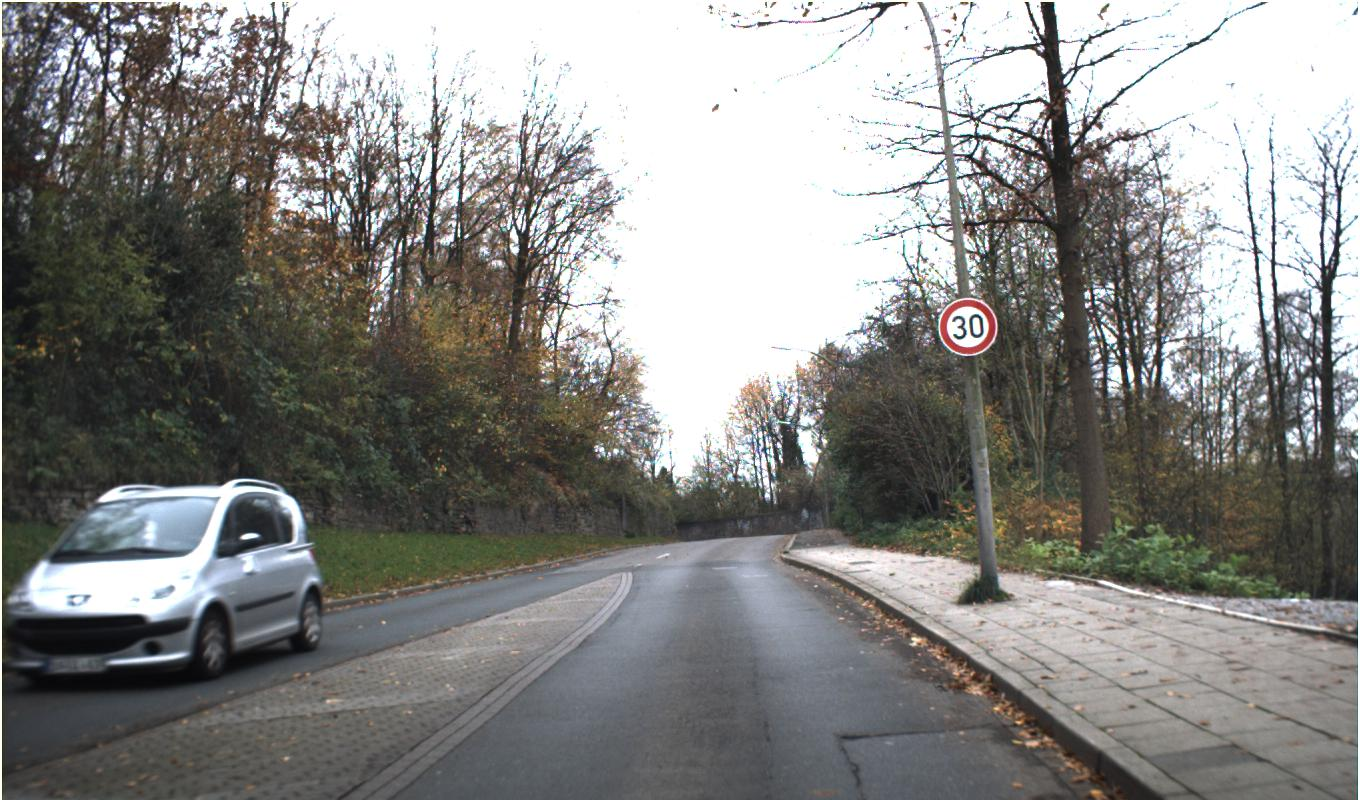prohibitory: (937, 295, 998, 356)
